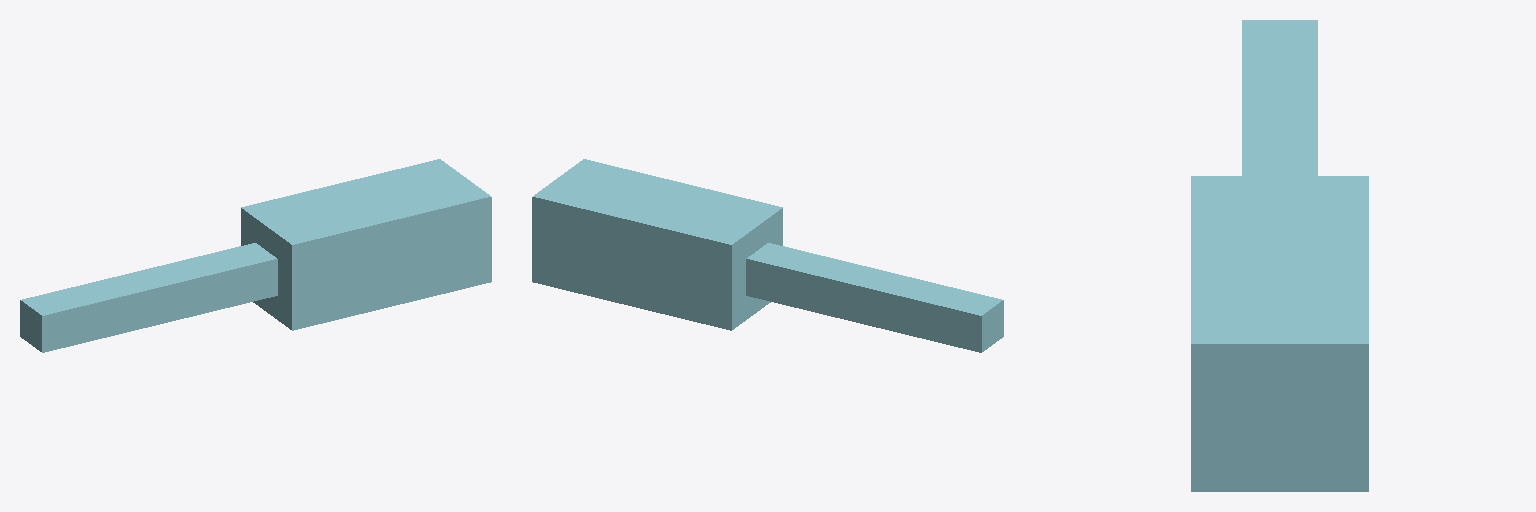
robot.urdf — cuboid_brush_v8008:
<?xml version="1.0"?>
<robot name="cuboid_brush_v8008">

  <link name="cuboid_brush_v8008">
    <!-- Handle -->
    <visual>
      <origin xyz="0 0 0" rpy="0 0 0"/>
      <geometry>
        <box size="0.12342530097608123 0.019992824830319132 0.018626540402928993"/>
      </geometry>
      <material name="material">
        <color rgba="0.639 0.847 0.882 1.0"/>
      </material>
    </visual>
    <collision>
      <origin xyz="0 0 0" rpy="0 0 0"/>
      <geometry>
        <box size="0.12342530097608123 0.019992824830319132 0.018626540402928993"/>
      </geometry>
    </collision>

    <!-- Head -->
    <visual>
      <origin xyz="0.11403299030147107 0 0" rpy="0 0 0"/>
      <geometry>
        <box size="0.1046406796268609 0.046824074124299134 0.0430174271707625"/>
      </geometry>
      <material name="material">
        <color rgba="0.639 0.847 0.882 1.0"/>
      </material>
    </visual>
    <collision>
      <origin xyz="0.11403299030147107 0 0" rpy="0 0 0"/>
      <geometry>
        <box size="0.1046406796268609 0.046824074124299134 0.0430174271707625"/>
      </geometry>
    </collision>

    <inertial>
      <density value="400.0"/>
    </inertial>
  </link>

</robot>

--- Facts derived from the render (not from the file) ---
3 views of the same robot in one strip: view 1: azimuth 30°, elevation 25°; view 2: azimuth 150°, elevation 25°; view 3: azimuth 270°, elevation 25° (orthographic).
Robot: cuboid_brush_v8008 — 1 links, 0 joints (none); root link cuboid_brush_v8008; default pose: all joints at 0.
Links seen in each view (by area): view 1: cuboid_brush_v8008; view 2: cuboid_brush_v8008; view 3: cuboid_brush_v8008.
Boxes of the visible links, x1,y1,x2,y2 form: cuboid_brush_v8008: (20, 159, 491, 352); cuboid_brush_v8008: (532, 159, 1003, 352); cuboid_brush_v8008: (1191, 20, 1368, 491).
Bounding box of the posed robot: 0.2281 × 0.0468 × 0.043 m (x, y, z).
Geometry: primitives only (box / cylinder / sphere), no mesh files.
